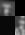potion: (0, 0, 15, 16)
sword: (15, 0, 25, 16)
